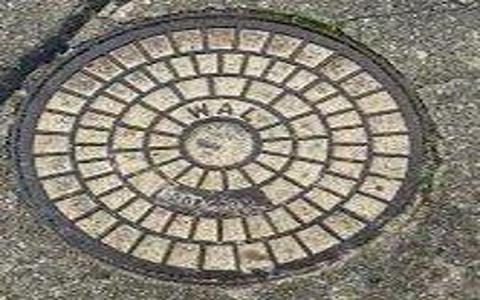proper manhole: (14, 6, 437, 289)
